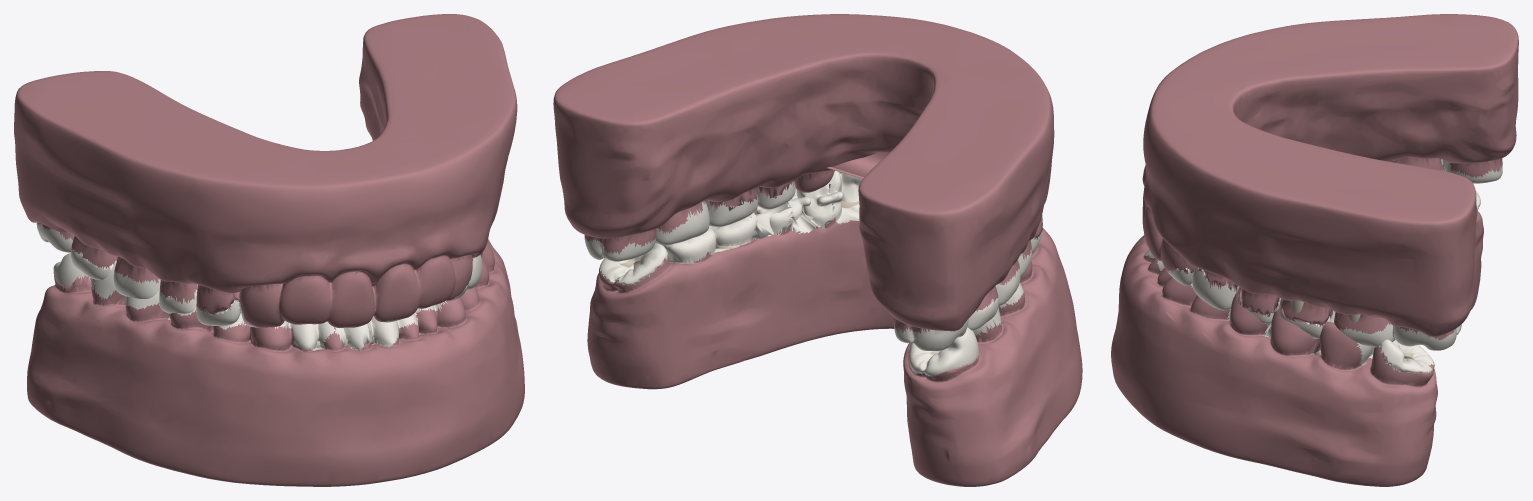
File: dentia-articulado-v2-clinico.glb
3 views of the same model, side by side, from view 1: azimuth 30°, elevation 25°; view 2: azimuth 150°, elevation 25°; view 3: azimuth 270°, elevation 25° (orthographic). The views are drawn at different scales.
Parts seen in each view (by area): view 1: ENCIA_UPPER, ENCIA_LOWER, FDI_42_CORONA, FDI_16_CORONA, EXTRA_L_01_CORONA, FDI_14_CORONA, FDI_41_CORONA, FDI_48_CORONA, FDI_17_CORONA, FDI_15_CORONA, FDI_18_CORONA; view 2: ENCIA_UPPER, ENCIA_LOWER, FDI_48_CORONA, FDI_34_CORONA, FDI_38_CORONA, FDI_33_CORONA, FDI_36_CORONA, FDI_18_CORONA, FDI_27_CORONA, FDI_35_CORONA, FDI_37_CORONA, FDI_26_CORONA (+2 smaller); view 3: ENCIA_UPPER, ENCIA_LOWER, FDI_38_CORONA, FDI_24_CORONA, FDI_28_CORONA, FDI_27_CORONA, FDI_18_CORONA, FDI_26_CORONA.
Part boxes in pixels (box(x1,y1,x2,y2)): ENCIA_UPPER: box(14, 14, 517, 327); ENCIA_LOWER: box(27, 239, 524, 486); FDI_42_CORONA: box(292, 321, 335, 350); FDI_16_CORONA: box(113, 270, 160, 299); EXTRA_L_01_CORONA: box(368, 316, 398, 347); FDI_14_CORONA: box(196, 300, 240, 325); FDI_41_CORONA: box(334, 323, 370, 350); FDI_48_CORONA: box(53, 253, 89, 287); FDI_17_CORONA: box(71, 247, 116, 279); FDI_15_CORONA: box(157, 279, 197, 313); FDI_18_CORONA: box(36, 222, 73, 252); ENCIA_UPPER: box(553, 14, 1054, 333); ENCIA_LOWER: box(587, 184, 1082, 486); FDI_48_CORONA: box(909, 327, 978, 376); FDI_34_CORONA: box(787, 183, 838, 233); FDI_38_CORONA: box(599, 243, 668, 285); FDI_33_CORONA: box(828, 170, 862, 224); FDI_36_CORONA: box(704, 216, 755, 255); FDI_18_CORONA: box(894, 319, 968, 350); FDI_27_CORONA: box(655, 202, 709, 245); FDI_35_CORONA: box(748, 202, 792, 239); FDI_37_CORONA: box(655, 233, 710, 263); FDI_26_CORONA: box(706, 194, 757, 226); ENCIA_UPPER: box(1142, 14, 1518, 340); ENCIA_LOWER: box(1111, 211, 1483, 486); FDI_38_CORONA: box(1379, 339, 1434, 373); FDI_24_CORONA: box(1192, 268, 1236, 310); FDI_28_CORONA: box(1392, 325, 1461, 350); FDI_27_CORONA: box(1340, 323, 1395, 347); FDI_18_CORONA: box(1441, 159, 1502, 183); FDI_26_CORONA: box(1278, 298, 1335, 338).
Size of the model in its own units: 0.064 by 0.0405 by 0.0531.
